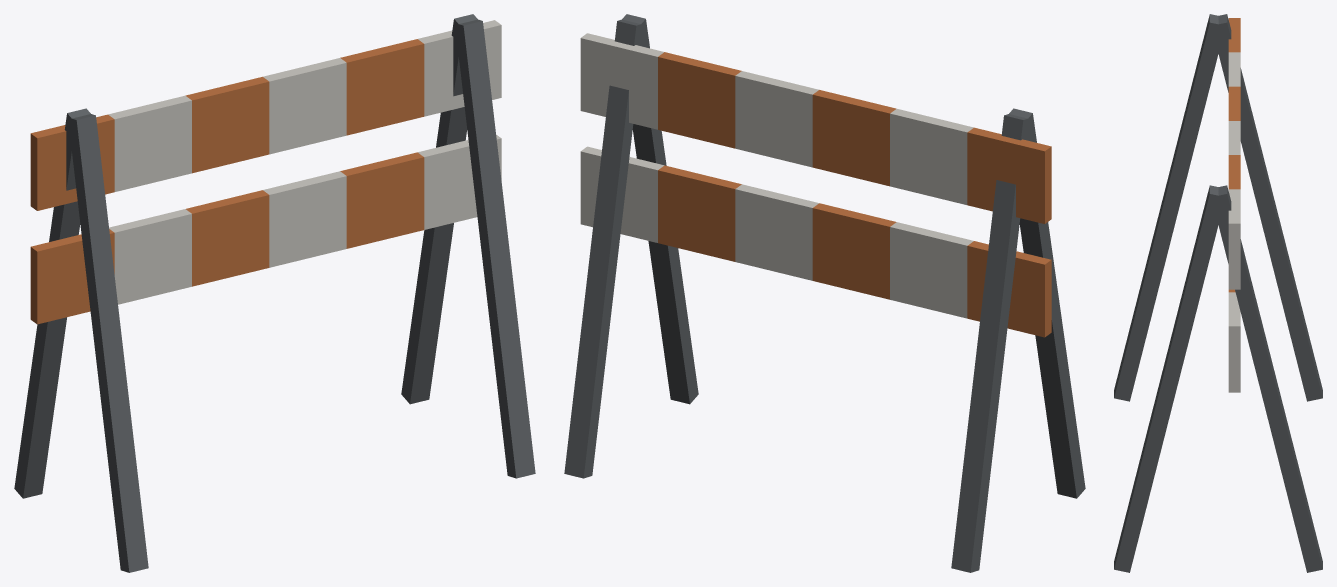
File: barrier-BvA6TUsW.glb
3 renders of one model, left to right at view 1: azimuth 30°, elevation 25°; view 2: azimuth 150°, elevation 25°; view 3: azimuth 270°, elevation 25°, orthographic. The views are drawn at different scales.
Visible parts, largest first — view 1: barrier; view 2: barrier; view 3: barrier.
Boxes of the visible parts, box(x1,y1,x2,y2) form: barrier: box(14, 14, 535, 572); barrier: box(564, 14, 1085, 572); barrier: box(1114, 14, 1322, 572).
Bounding box in the file's own units: 1.2 × 1.03 × 0.5151.
